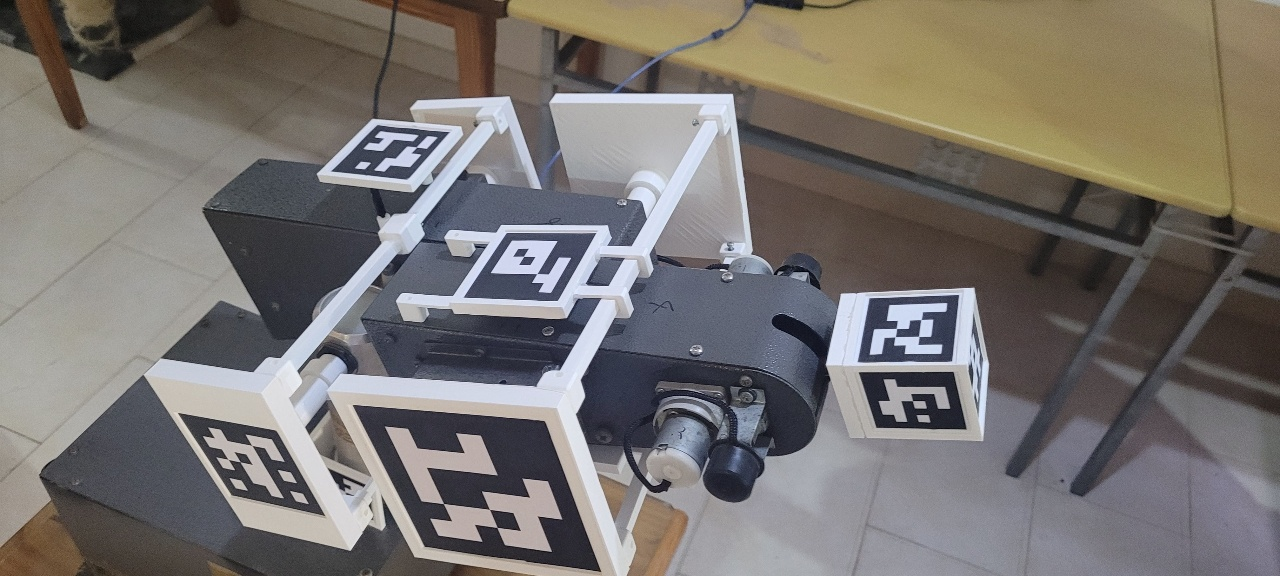Robot: (139, 91, 991, 576)
